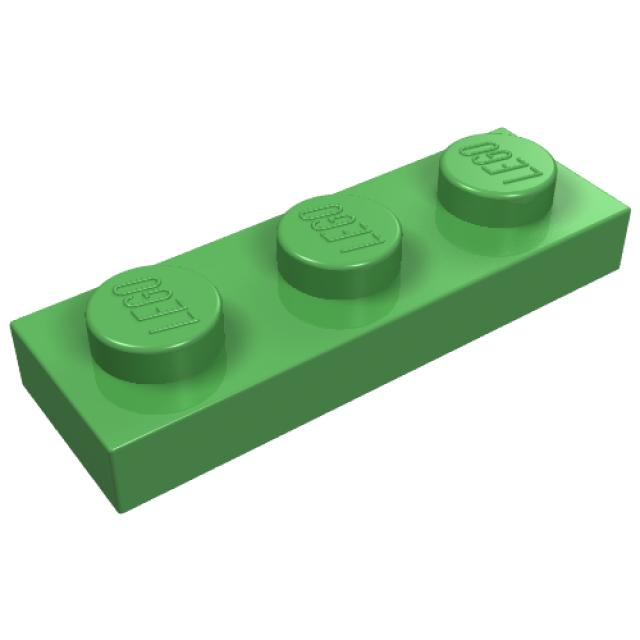Green_Medium: (9, 128, 632, 517)
